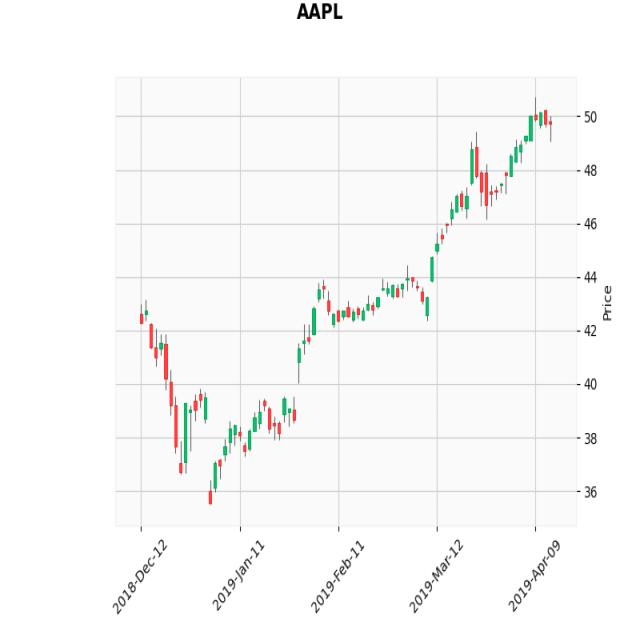Double-Bottom: (164, 360, 240, 514)
